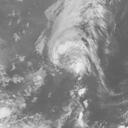cyclone: (46, 25, 92, 77)
